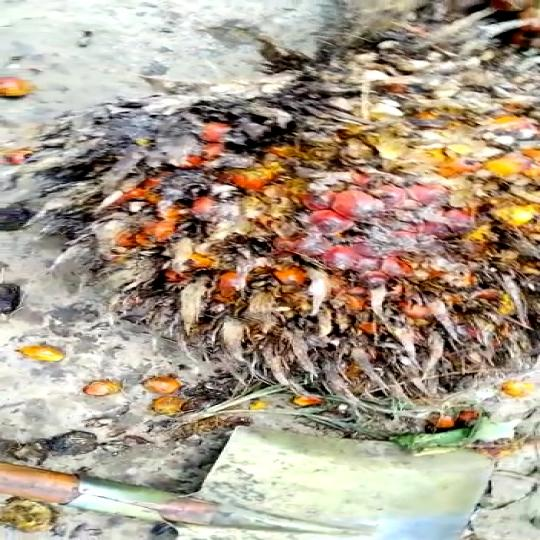terlalu masak: (24, 54, 540, 403)
